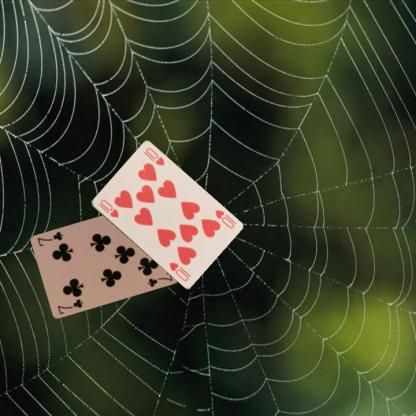10h: (95, 196, 120, 219), (213, 207, 235, 230)
7c: (55, 297, 84, 316)
